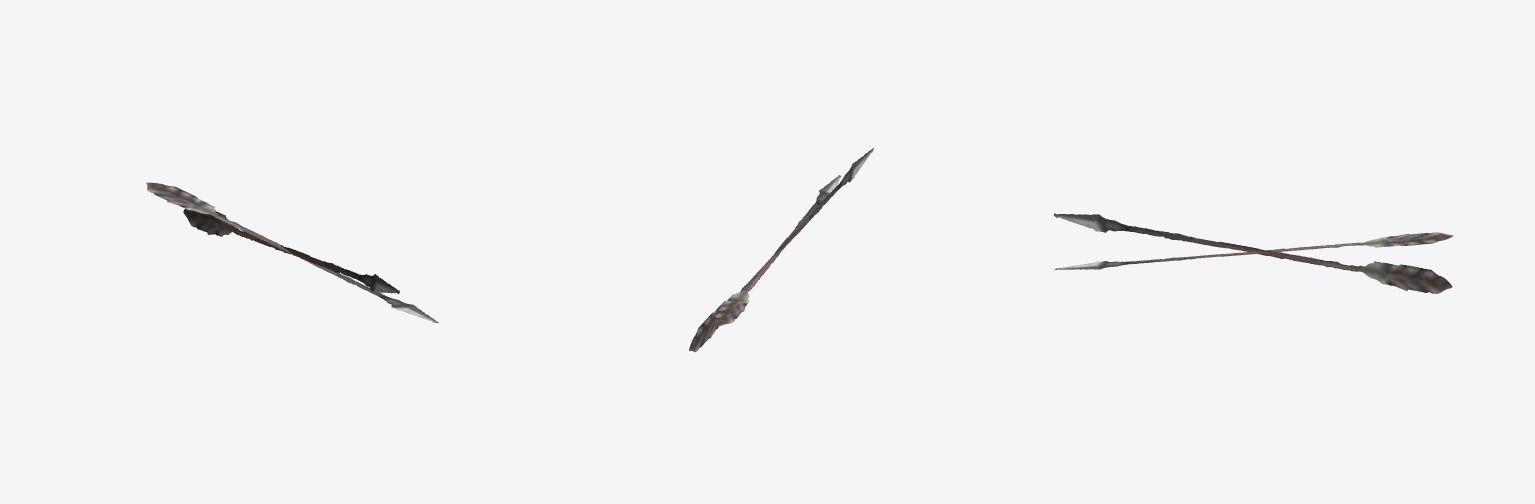
Rendered from proj_arrow_ground_01.fbx.
3 views of the same model, side by side, from view 1: azimuth 30°, elevation 25°; view 2: azimuth 150°, elevation 25°; view 3: azimuth 270°, elevation 25° (orthographic). The views are drawn at different scales.
Parts seen in each view (by area): view 1: flare 10, flare 10 (1); view 2: flare 10, flare 10 (1); view 3: flare 10 (1), flare 10.
Boxes of the visible parts, bbox=[...] form: flare 10: bbox=[146, 182, 438, 322]; flare 10 (1): bbox=[183, 208, 399, 294]; flare 10: bbox=[714, 175, 841, 326]; flare 10 (1): bbox=[689, 148, 873, 352]; flare 10 (1): bbox=[1054, 213, 1452, 293]; flare 10: bbox=[1055, 232, 1453, 269].
Bounding box in the file's own units: 1.76 × 1.76 × 1.76.
1 material, 1 textured.
